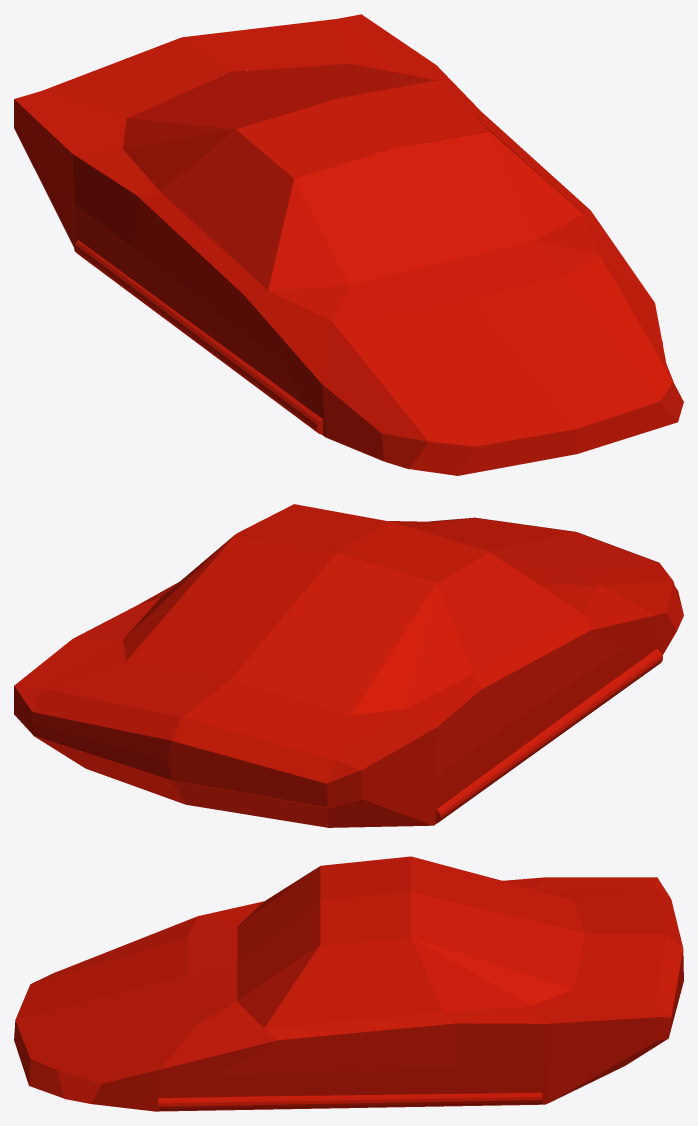
Rendered from Bladecar.fbx.
3 views of the same model, one above another, from view 1: azimuth 30°, elevation 25°; view 2: azimuth 150°, elevation 25°; view 3: azimuth 270°, elevation 25° (orthographic). The views are drawn at different scales.
Parts seen in each view (by area): view 1: Body, Glasses, Lights, tubes; view 2: Body, Glasses, Lights, tubes; view 3: Body, Glasses, tubes, Lights.
Part boxes in pixels (x1=…): Body: x1=14, y1=14, x2=673, y2=469; Glasses: x1=127, y1=64, x2=582, y2=290; Lights: x1=14, y1=70, x2=683, y2=475; tubes: x1=74, y1=240, x2=662, y2=434; Body: x1=14, y1=504, x2=683, y2=827; Glasses: x1=127, y1=533, x2=582, y2=715; Lights: x1=14, y1=517, x2=683, y2=807; tubes: x1=435, y1=649, x2=662, y2=823; Body: x1=15, y1=856, x2=683, y2=1111; Glasses: x1=237, y1=856, x2=585, y2=1028; tubes: x1=158, y1=1092, x2=542, y2=1110; Lights: x1=14, y1=879, x2=683, y2=1098.
Bounding box in the file's own units: 502 × 242 × 961.
